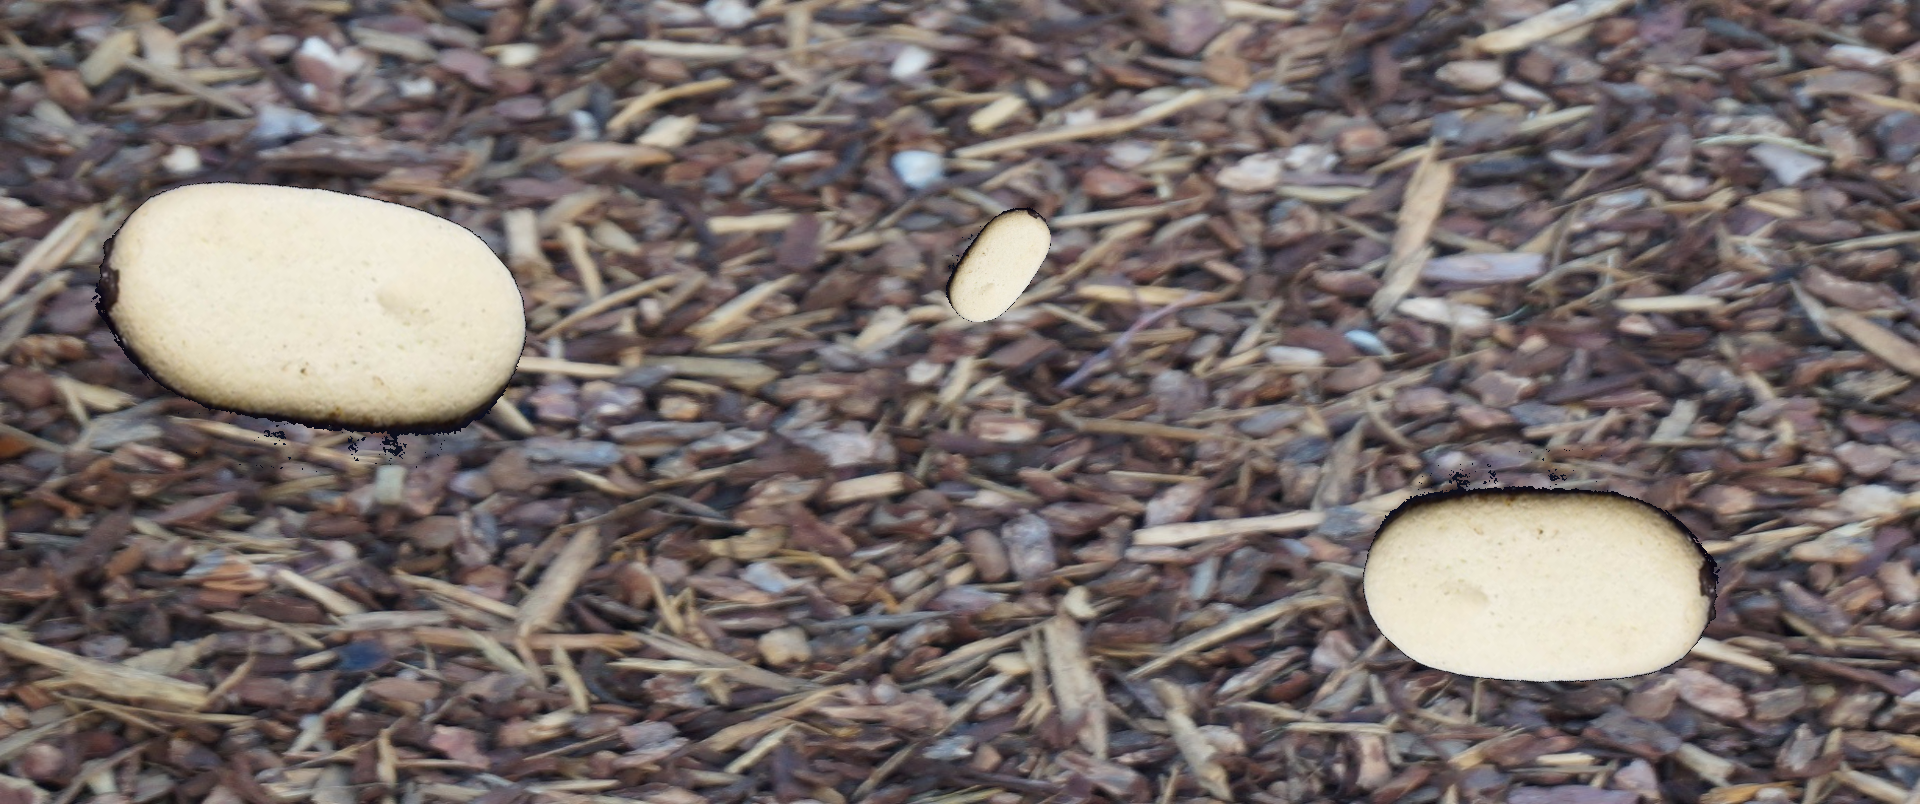test: (40, 48, 576, 584), (1321, 356, 1762, 797), (928, 196, 1067, 328)
